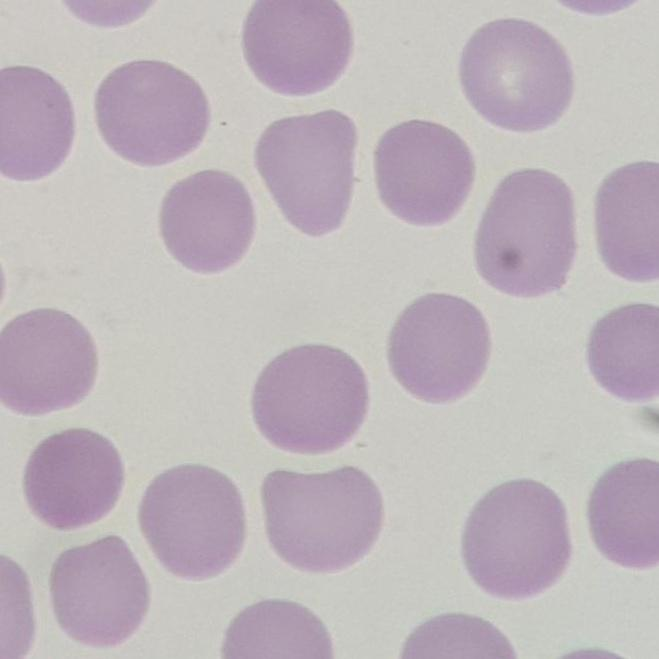Uninfected: (253, 104, 356, 237), (263, 466, 384, 577), (462, 17, 574, 133), (252, 344, 372, 452), (462, 482, 570, 599), (475, 169, 574, 295), (143, 464, 247, 582), (388, 291, 494, 403), (98, 61, 211, 166), (51, 539, 153, 645), (0, 306, 94, 419), (373, 114, 469, 223), (25, 431, 127, 532), (157, 167, 253, 274), (245, 4, 349, 93), (0, 61, 71, 185), (593, 157, 659, 282), (590, 454, 659, 565), (590, 299, 659, 403)
